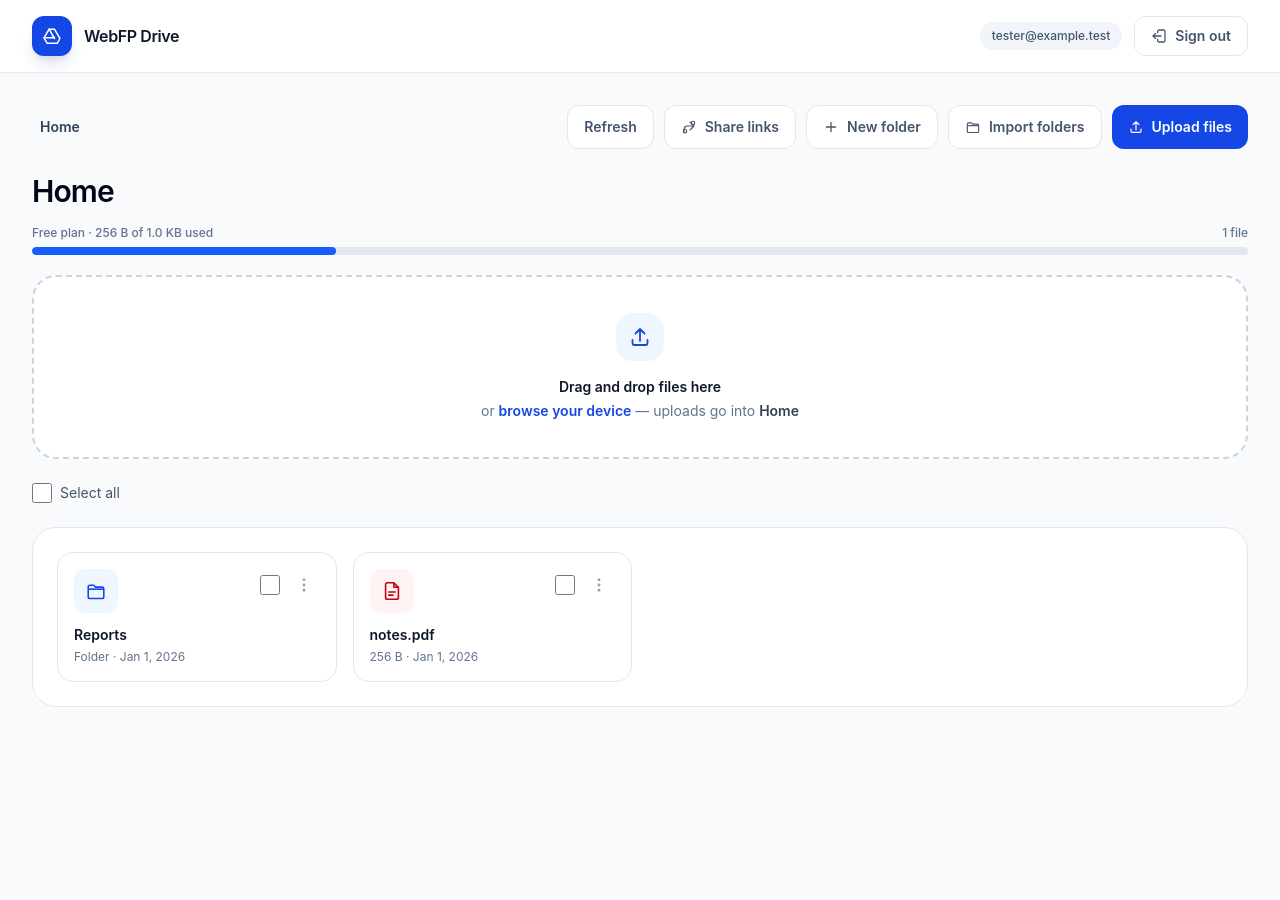
Test case: drive actions › allows canceling bulk deletion without losing the selection
Click the checkbox labelled "Select all" at (42,493), box [32,483,52,503]
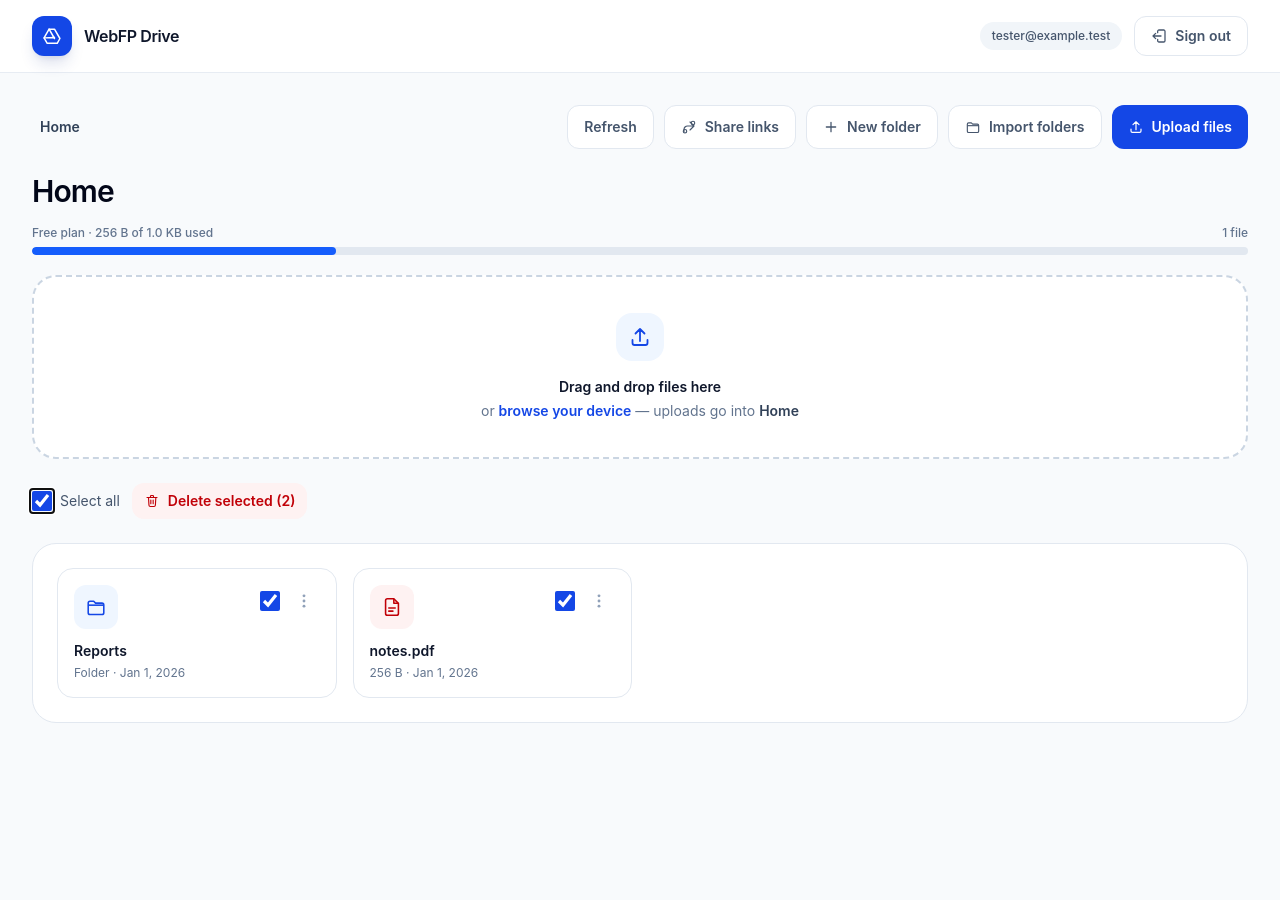
Click the button "Delete selected (2)" at (220,501), box [132,483,308,519]
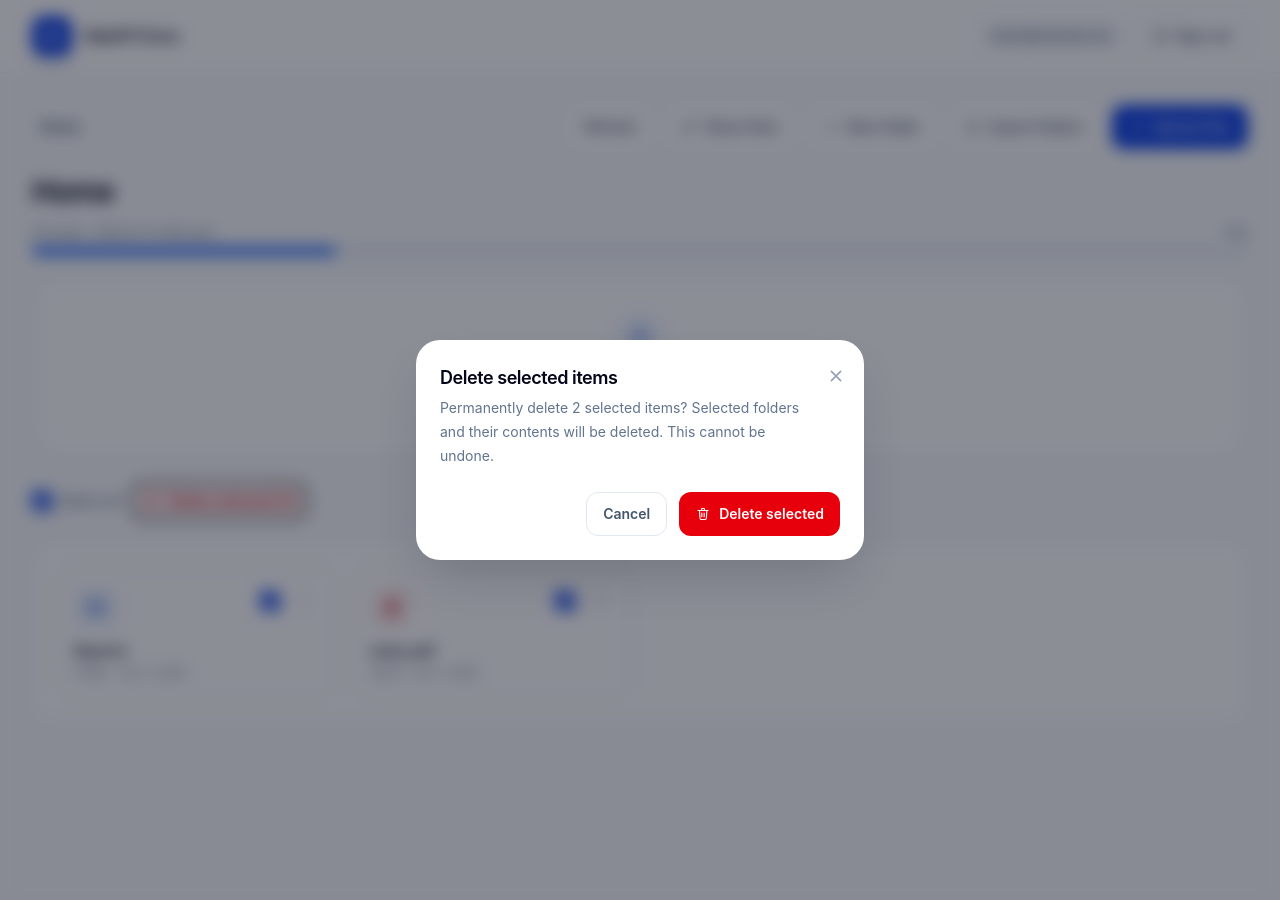
Click the button "Cancel" at (627,514), box [586,492,667,536]
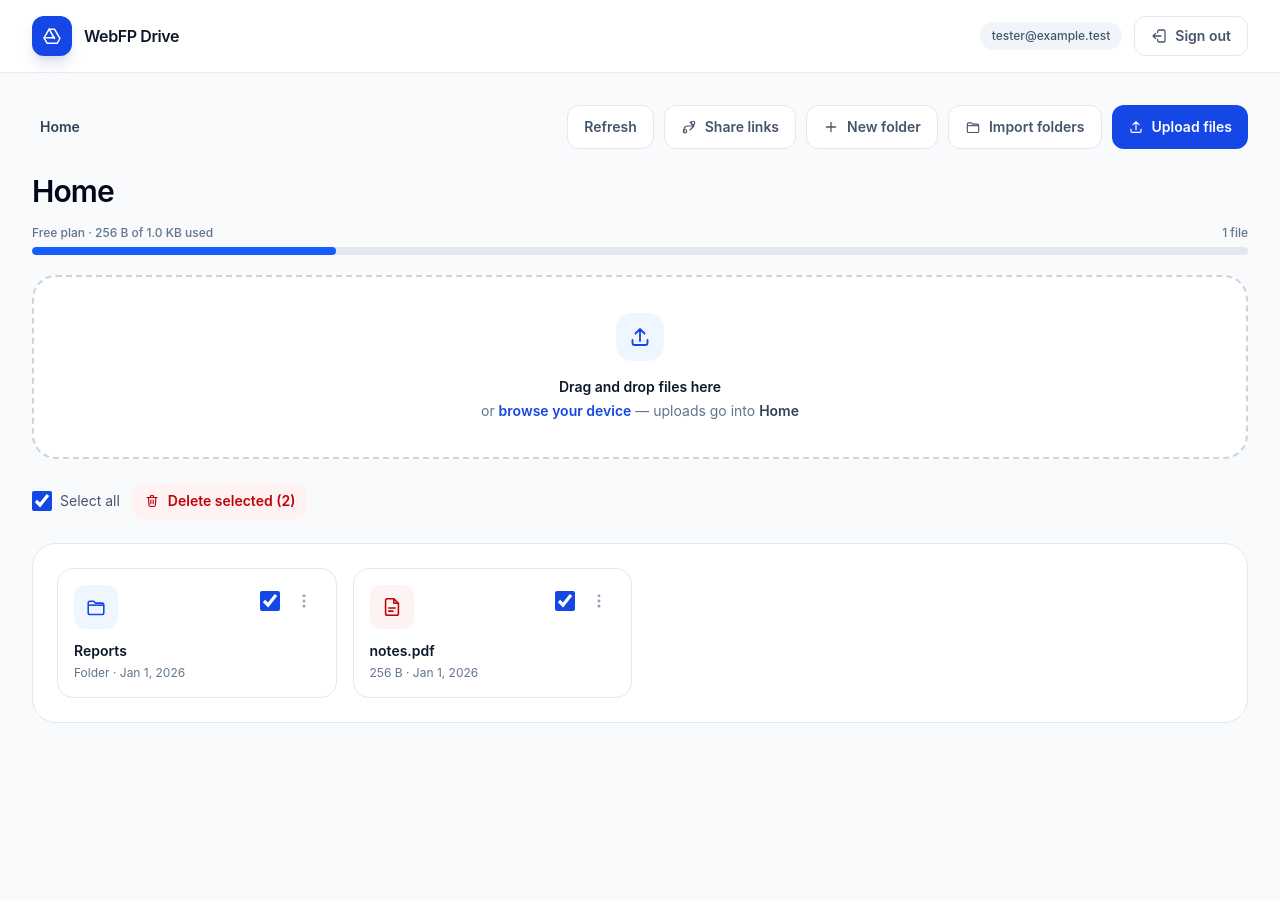
Expected: the button "Delete selected (2)" is shown, [132,483,308,519]
Expected: the dialog is gone
